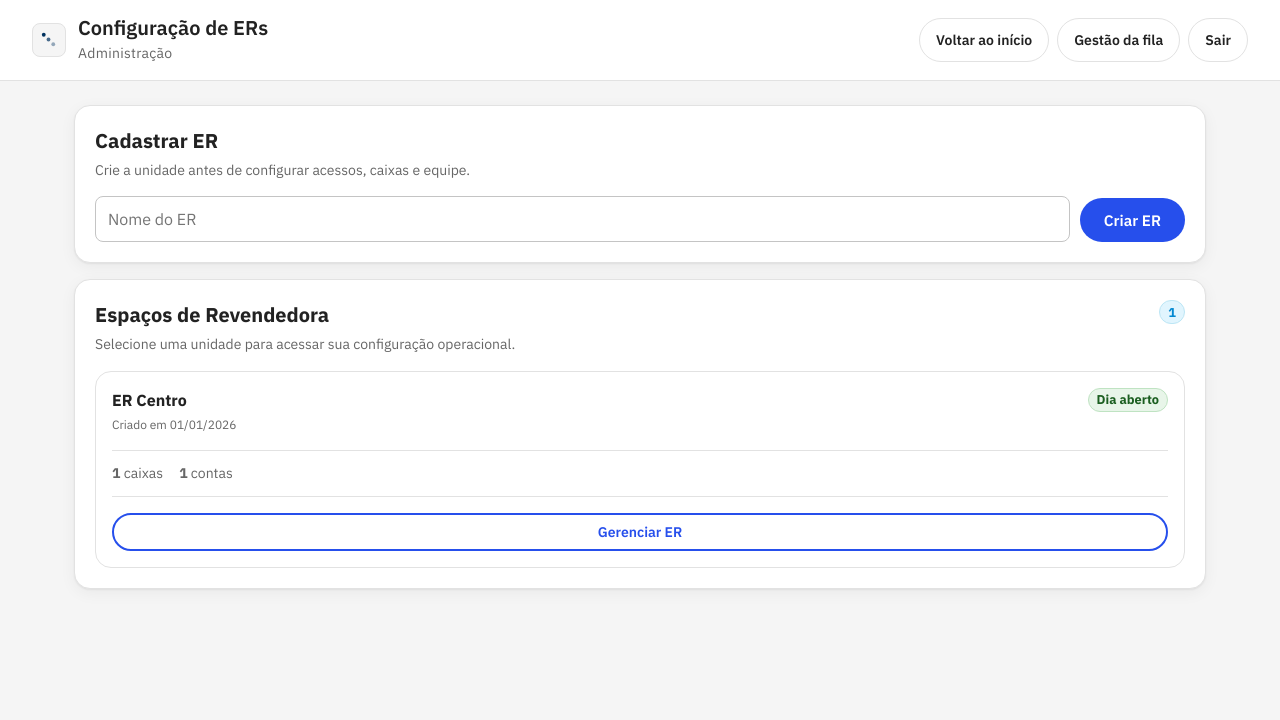
it: AdminPage — ER management › disables removing a counter with service history
Click the button "Gerenciar ER": (640, 532) [112,513,1168,551]
(page scrolled)
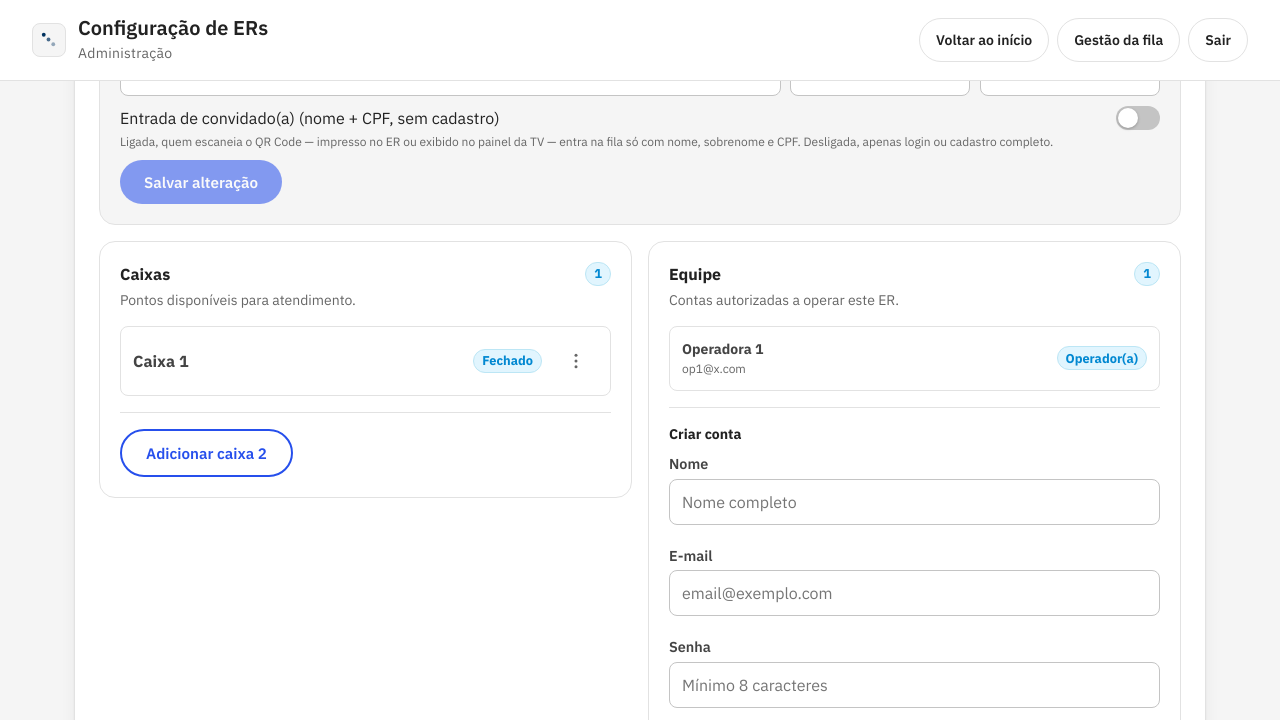
Click the button named "Ações do caixa 1": (576, 361) [554,339,598,383]
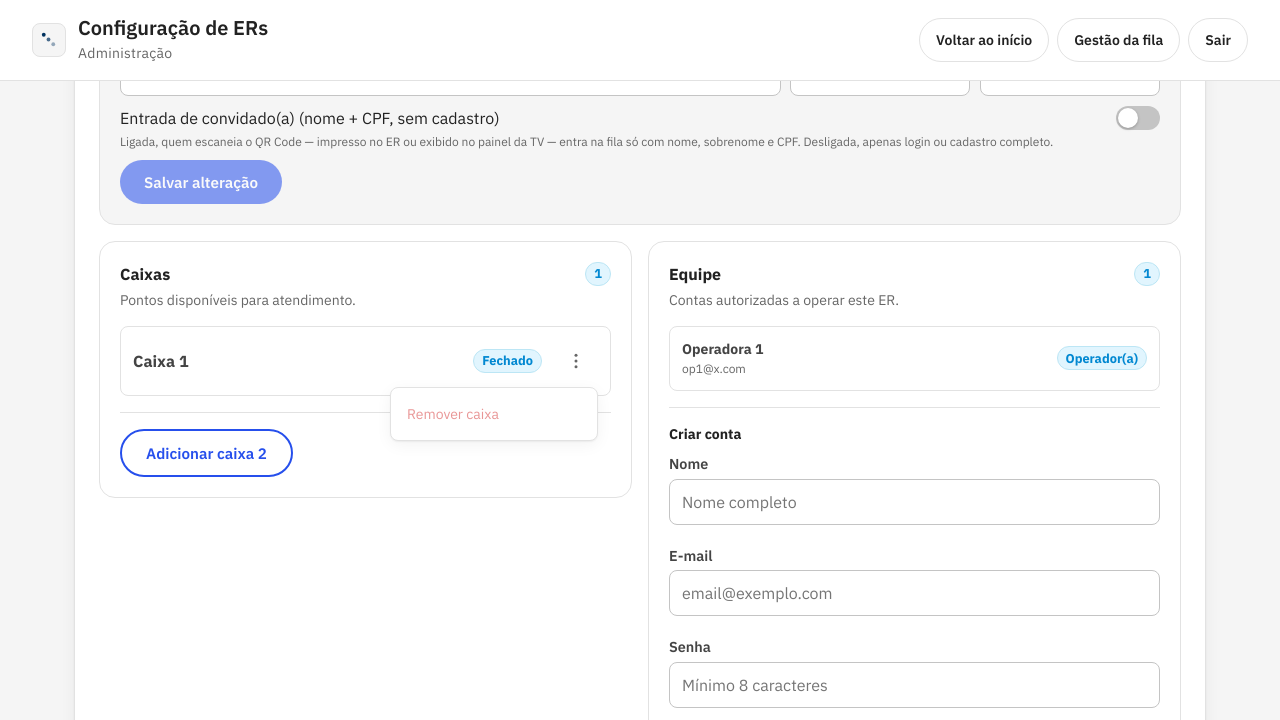
Check: the menu item "Remover caixa" is disabled, box [395,392,593,436]
